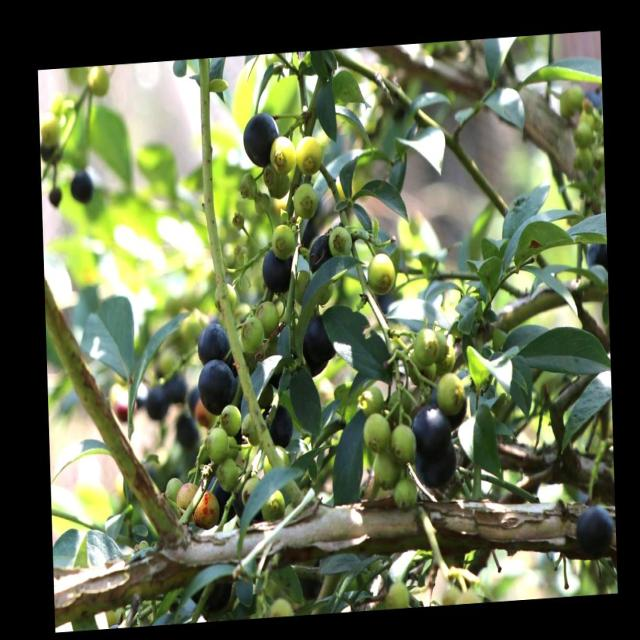blueberry: (570, 500, 614, 557), (196, 358, 238, 412), (299, 314, 336, 375), (240, 108, 279, 165), (416, 442, 460, 492), (258, 239, 297, 295), (412, 402, 449, 451), (194, 319, 229, 359), (266, 401, 294, 449), (308, 228, 334, 271)
blueberry-halfripe: (192, 488, 222, 530), (173, 480, 200, 516)
blueberry-unripe: (432, 368, 467, 421), (364, 248, 397, 295), (360, 411, 390, 454), (292, 133, 322, 175), (412, 323, 442, 364), (290, 177, 318, 220), (372, 448, 402, 488), (268, 133, 296, 175), (254, 296, 282, 338), (389, 420, 417, 462), (390, 474, 420, 513), (270, 222, 296, 260), (238, 315, 264, 353), (327, 221, 352, 260), (213, 279, 238, 317), (205, 424, 230, 462), (214, 456, 238, 492), (163, 473, 184, 512), (360, 382, 384, 416), (260, 488, 284, 520), (385, 581, 412, 609), (221, 402, 242, 436), (240, 172, 258, 200)
